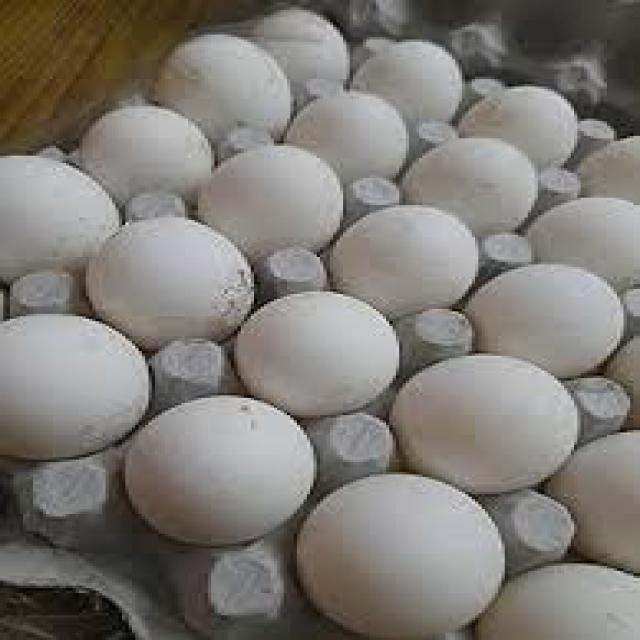Dirt Stained Egg: (83, 205, 284, 352)
White Egg: (294, 452, 498, 640), (380, 342, 570, 504), (121, 394, 314, 551), (254, 288, 425, 429), (0, 311, 142, 469)
